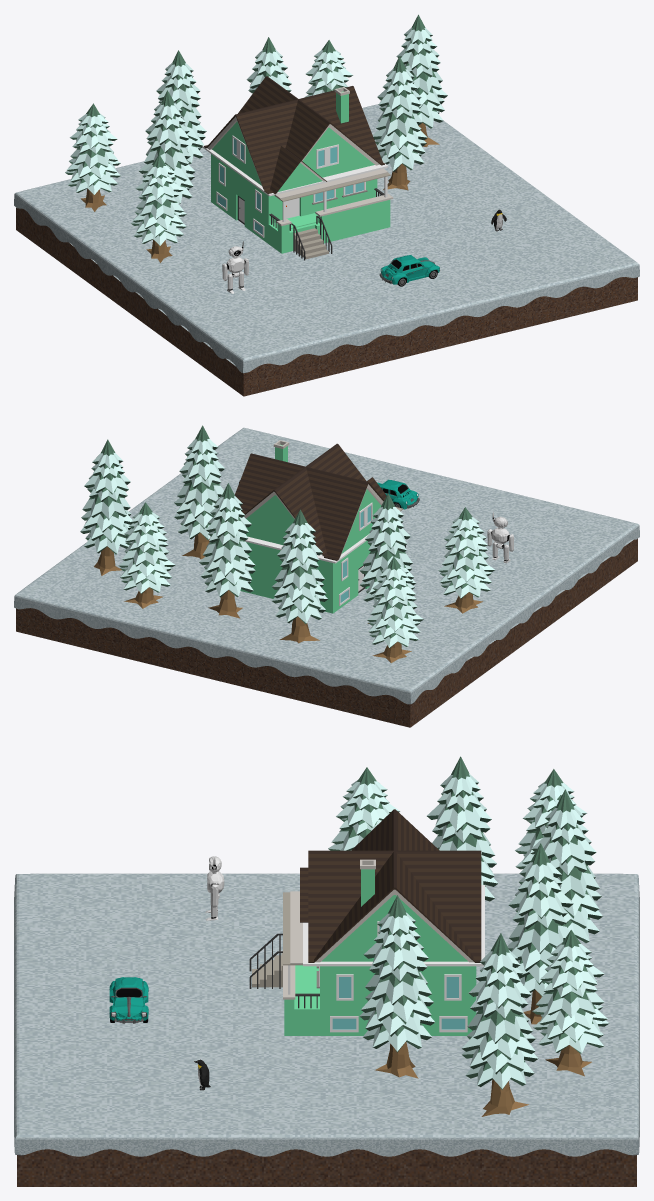
The picture shows the model from 3 angles, top to bottom: view 1: azimuth 30°, elevation 25°; view 2: azimuth 150°, elevation 25°; view 3: azimuth 270°, elevation 25°; orthographic projection. The views are drawn at different scales.
Parts seen in each view (by area): view 1: Cube.003, Cube.352, VEHICLES_VOLKSWAGEN, OBJRANDOM_PLATZEEBOT; view 2: Cube.003, Cube.352, OBJRANDOM_PLATZEEBOT, VEHICLES_VOLKSWAGEN; view 3: Cube.003, Cube.352, VEHICLES_VOLKSWAGEN, OBJRANDOM_PLATZEEBOT.
Boxes of the visible parts, x1,y1,x2,y2 form: Cube.003: [14, 14, 639, 396]; Cube.352: [202, 76, 393, 260]; VEHICLES_VOLKSWAGEN: [379, 255, 440, 286]; OBJRANDOM_PLATZEEBOT: [222, 241, 248, 293]; Cube.003: [14, 425, 639, 727]; Cube.352: [235, 440, 405, 613]; OBJRANDOM_PLATZEEBOT: [487, 512, 513, 563]; VEHICLES_VOLKSWAGEN: [377, 479, 419, 509]; Cube.003: [14, 756, 639, 1186]; Cube.352: [249, 809, 484, 1035]; VEHICLES_VOLKSWAGEN: [109, 977, 148, 1023]; OBJRANDOM_PLATZEEBOT: [205, 856, 224, 920].
Size of the model in its own units: 4040 by 1665 by 4040.
Materials: 31 (3 with a texture image).
